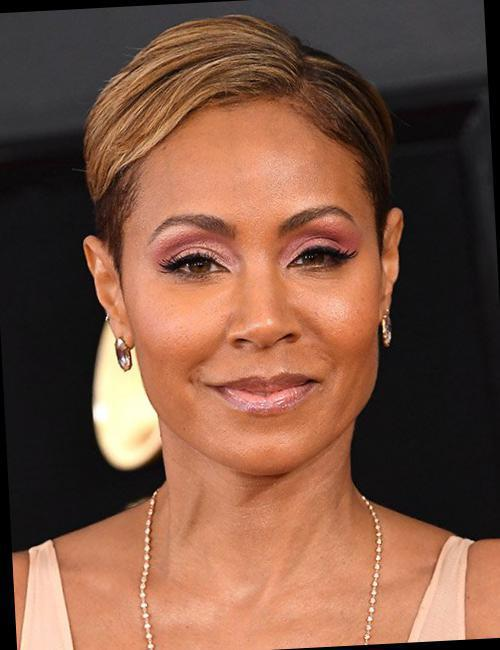Sober: (125, 100, 385, 472)
